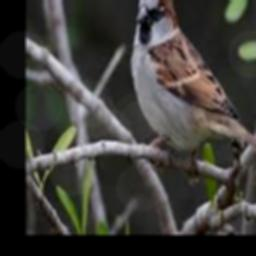Sparrow: (130, 0, 256, 164)
